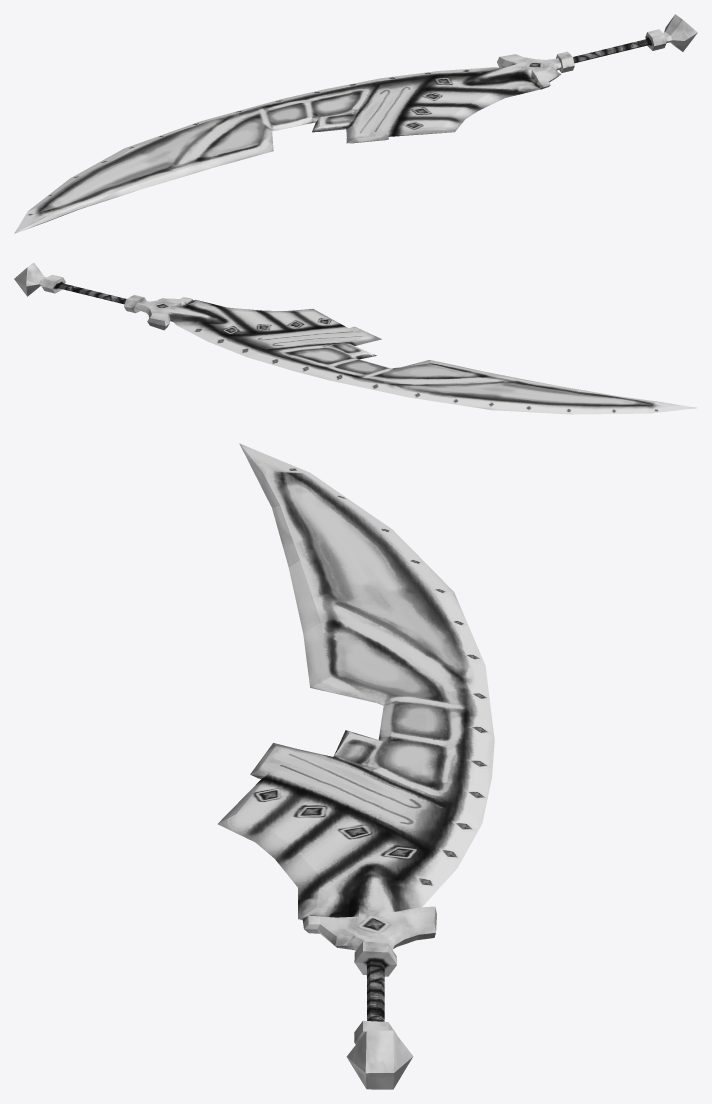
The model's file is 2Handed_sword.fbx.
3 views of the same model, one above another, from view 1: azimuth 30°, elevation 25°; view 2: azimuth 150°, elevation 25°; view 3: azimuth 270°, elevation 25° (orthographic). The views are drawn at different scales.
Parts seen in each view (by area): view 1: polySurface9; view 2: polySurface9; view 3: polySurface9.
Boxes of the visible parts, left/top/right/bottom form: polySurface9: left=14, top=14, right=697, bottom=233; polySurface9: left=14, top=262, right=696, bottom=414; polySurface9: left=217, top=443, right=494, bottom=1089.
Size of the model in its own units: 0.3341 by 0.0147 by 0.0622.
